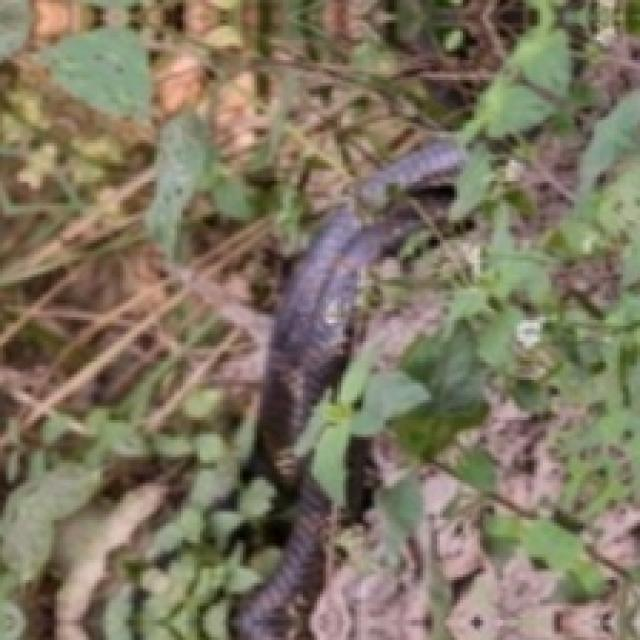king cobra: (257, 140, 463, 480), (237, 474, 329, 637)
